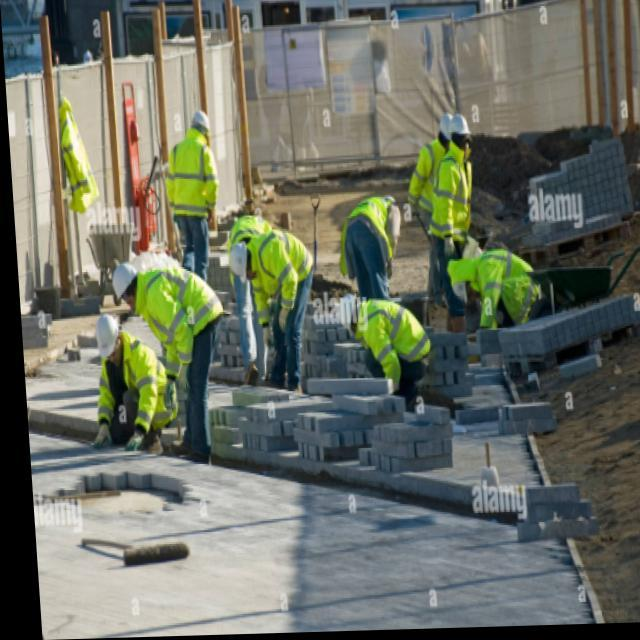helmet: (94, 313, 126, 366), (110, 262, 140, 308), (450, 261, 478, 310), (227, 240, 256, 287), (338, 290, 360, 338), (449, 112, 472, 151), (437, 112, 458, 148), (191, 109, 213, 142)
vest: (131, 260, 230, 380), (90, 330, 182, 434), (445, 248, 544, 326), (356, 296, 435, 391), (248, 224, 319, 326), (161, 127, 224, 223), (423, 139, 478, 242), (337, 196, 398, 279), (405, 139, 458, 220), (225, 213, 274, 285)
